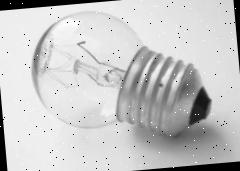lightbulb: (25, 0, 214, 148)
